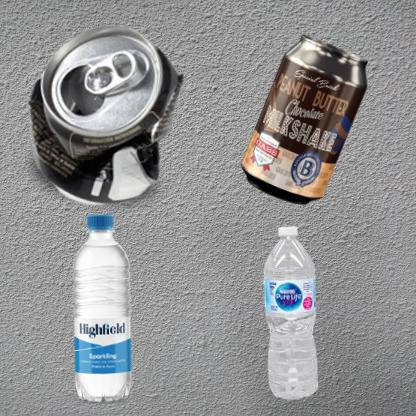botella: (10, 213, 192, 409), (213, 213, 369, 412)
lata: (213, 10, 416, 275), (10, 10, 202, 229)
